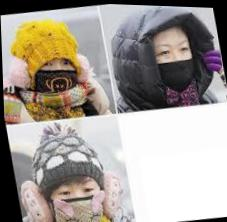OK: (46, 174, 109, 222), (29, 49, 82, 102)
WRONG: (149, 35, 199, 88)
